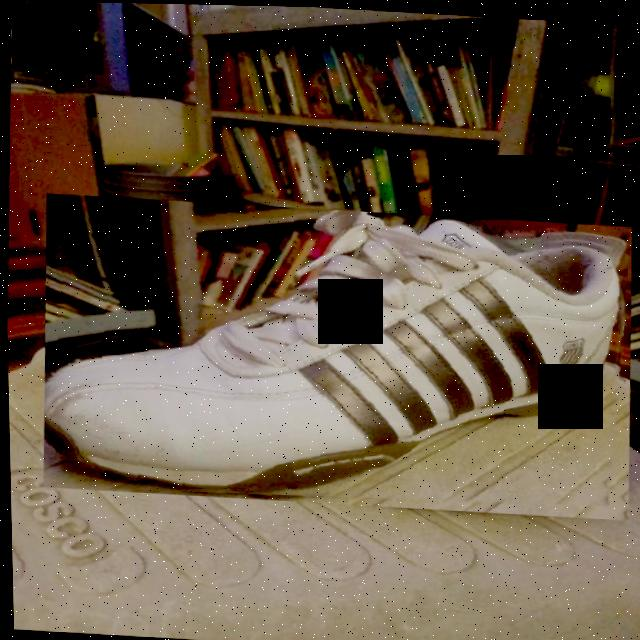shoe: (35, 193, 636, 517)
